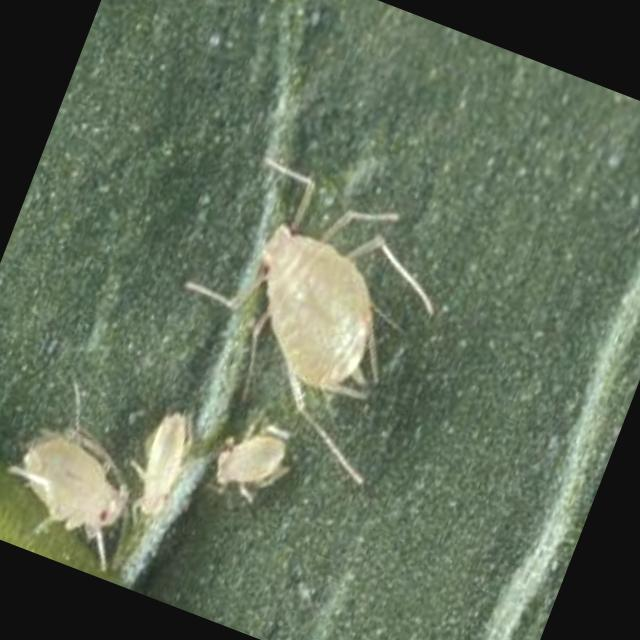Green peach aphid: (134, 116, 515, 472), (0, 400, 153, 566), (94, 368, 237, 536), (192, 397, 330, 547)
